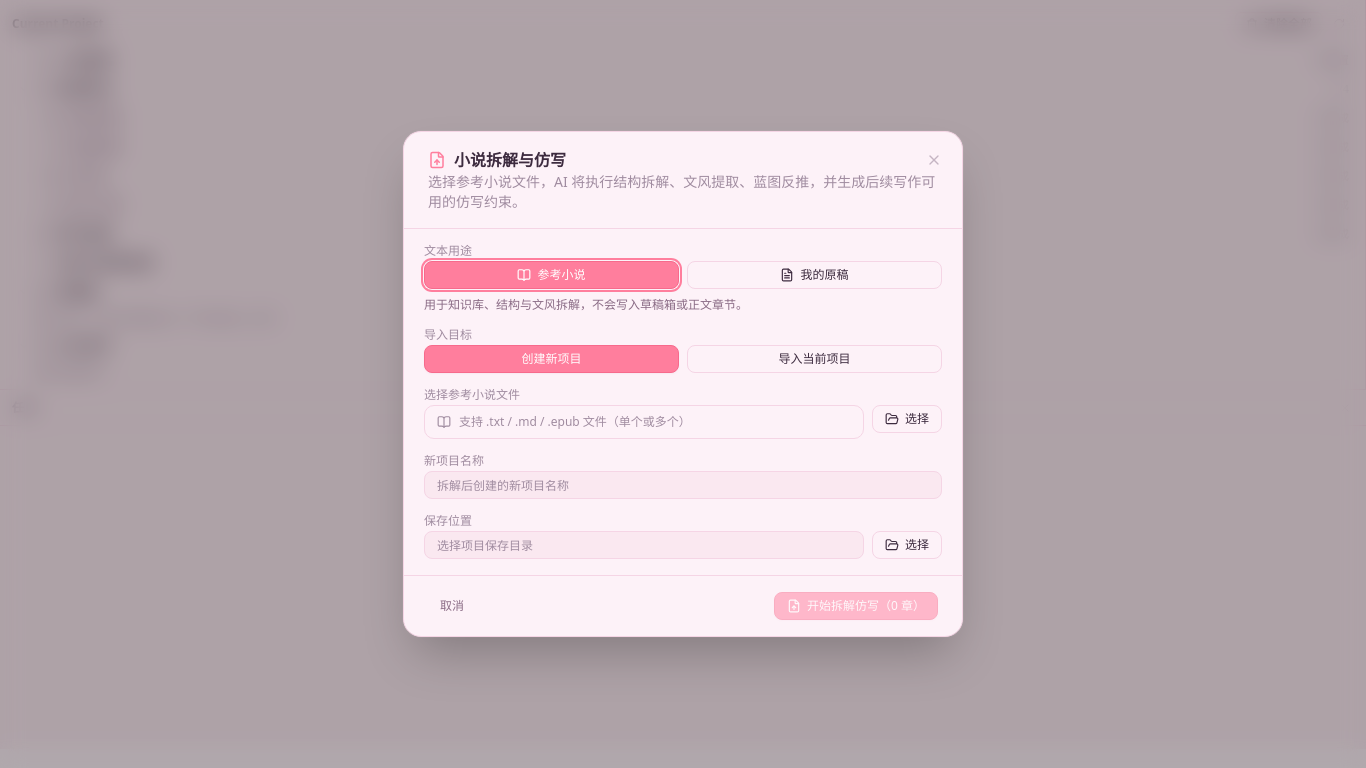
current-project reference import › reports an exact duplicate as a no-op with no task, KB, or model side effects
This screenshot has width=1366, height=768.
Click the button with test id "import-target-current" at (814, 359), box [687, 345, 942, 373]
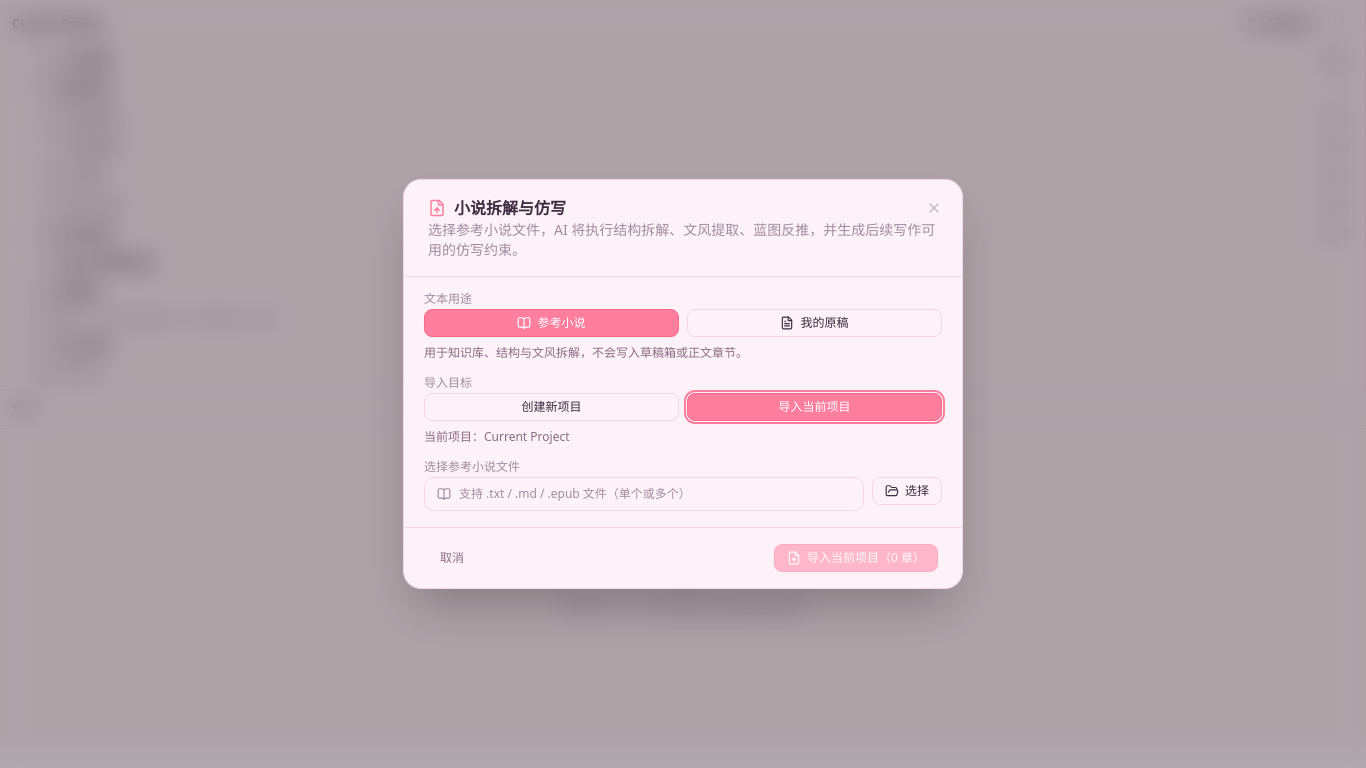
Click the button "选择" at (907, 491), box [872, 477, 942, 505]
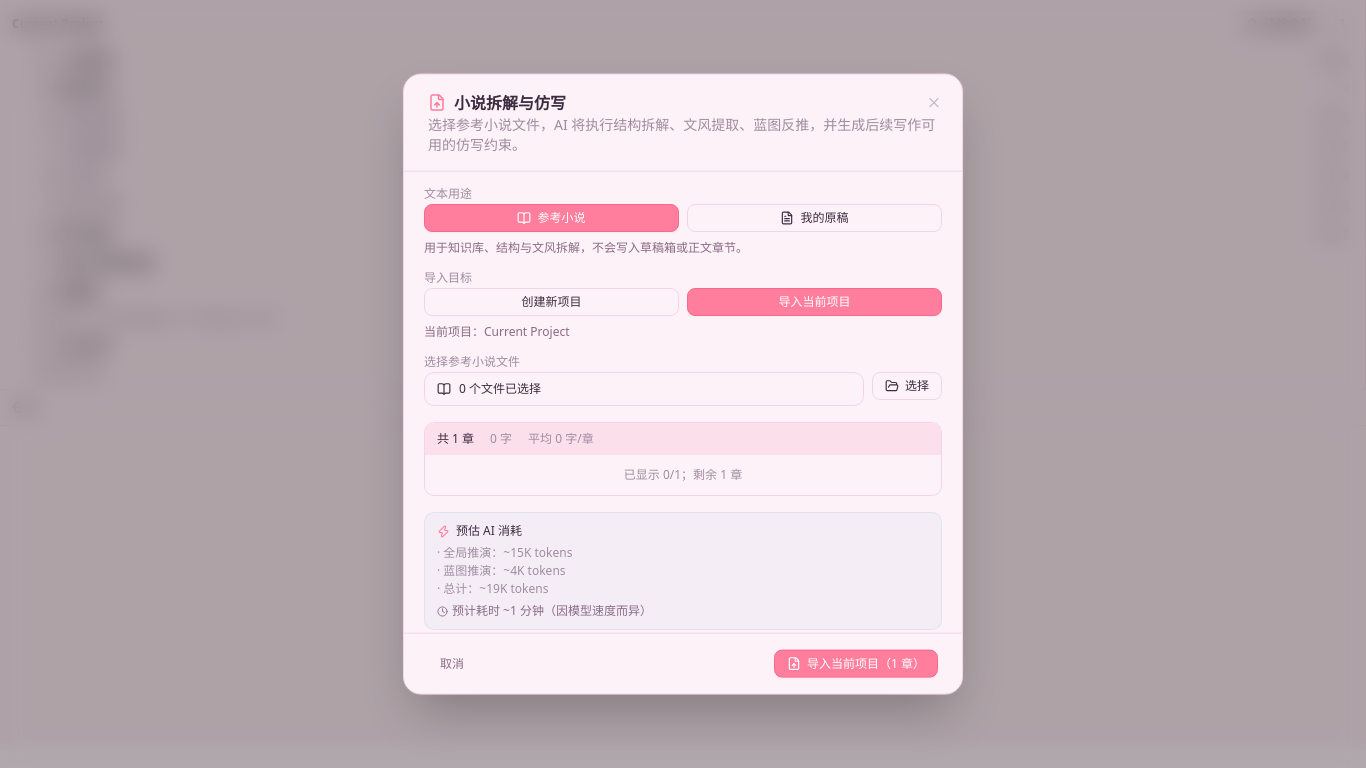
Now the text "共 1 章" is shown, box [437, 431, 474, 447]
Click the button "导入当前项目（1 章）" at (856, 663), box [774, 649, 938, 677]
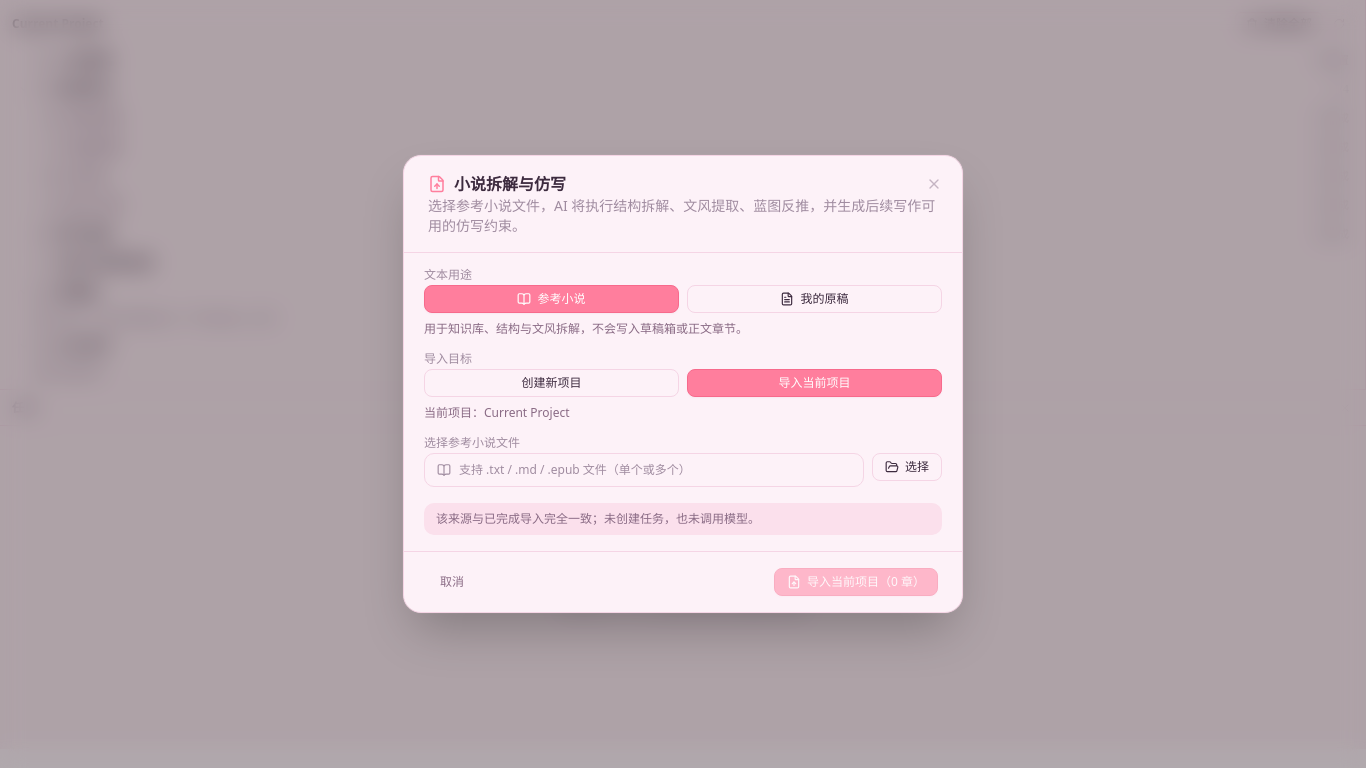
Now the text with test id "import-classification-notice" shows "未创建任务，也未调用模型", box [436, 510, 760, 527]
